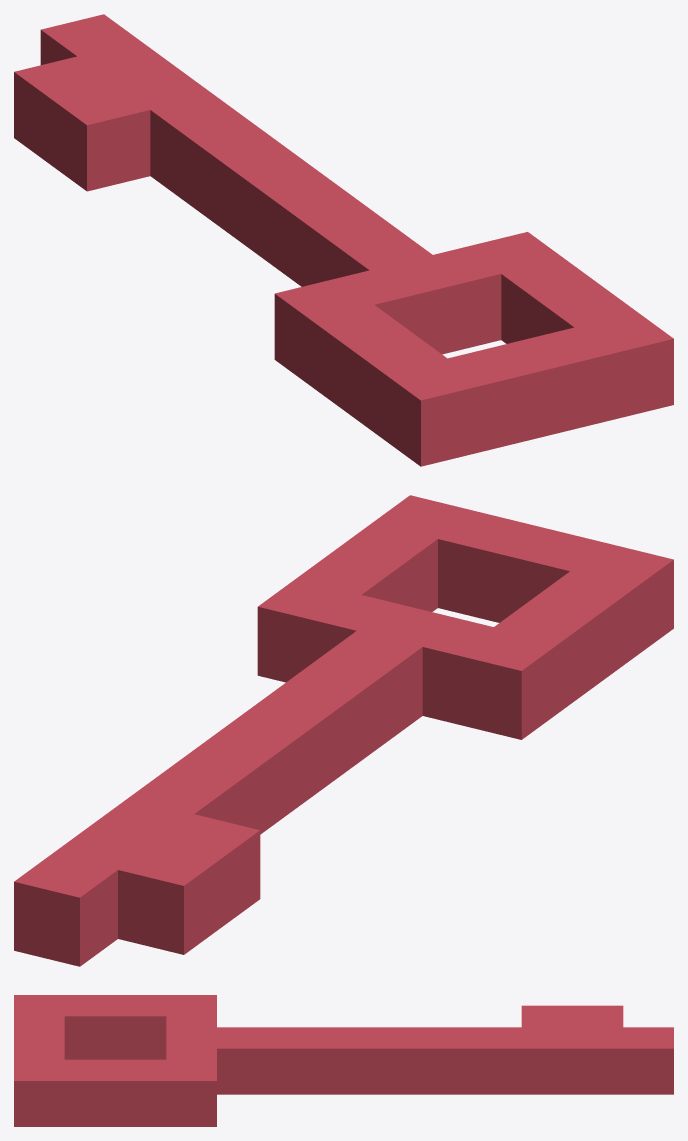
The model's file is Key_Red.glb.
3 renders of one model, top to bottom at view 1: azimuth 30°, elevation 25°; view 2: azimuth 150°, elevation 25°; view 3: azimuth 270°, elevation 25°, orthographic. The views are drawn at different scales.
Parts seen in each view (by area): view 1: Mesh_Mesh_head_geo.001_lambert2SG.001; view 2: Mesh_Mesh_head_geo.001_lambert2SG.001; view 3: Mesh_Mesh_head_geo.001_lambert2SG.001.
Boxes of the visible parts, x1,y1,x2,y2 form: Mesh_Mesh_head_geo.001_lambert2SG.001: (14,14,673,466); Mesh_Mesh_head_geo.001_lambert2SG.001: (14,495,673,966); Mesh_Mesh_head_geo.001_lambert2SG.001: (14,995,673,1126).
Size of the model in its own units: 0.2 by 0.05 by 0.65.
